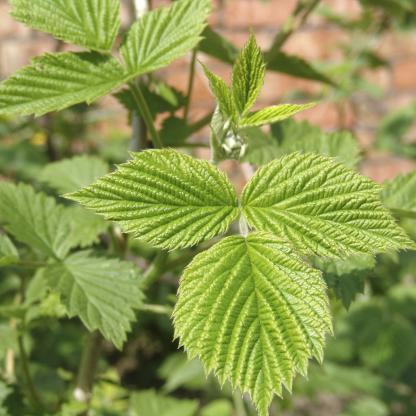Raspberry leaf: (173, 228, 336, 415), (58, 146, 242, 252), (239, 150, 416, 258)
